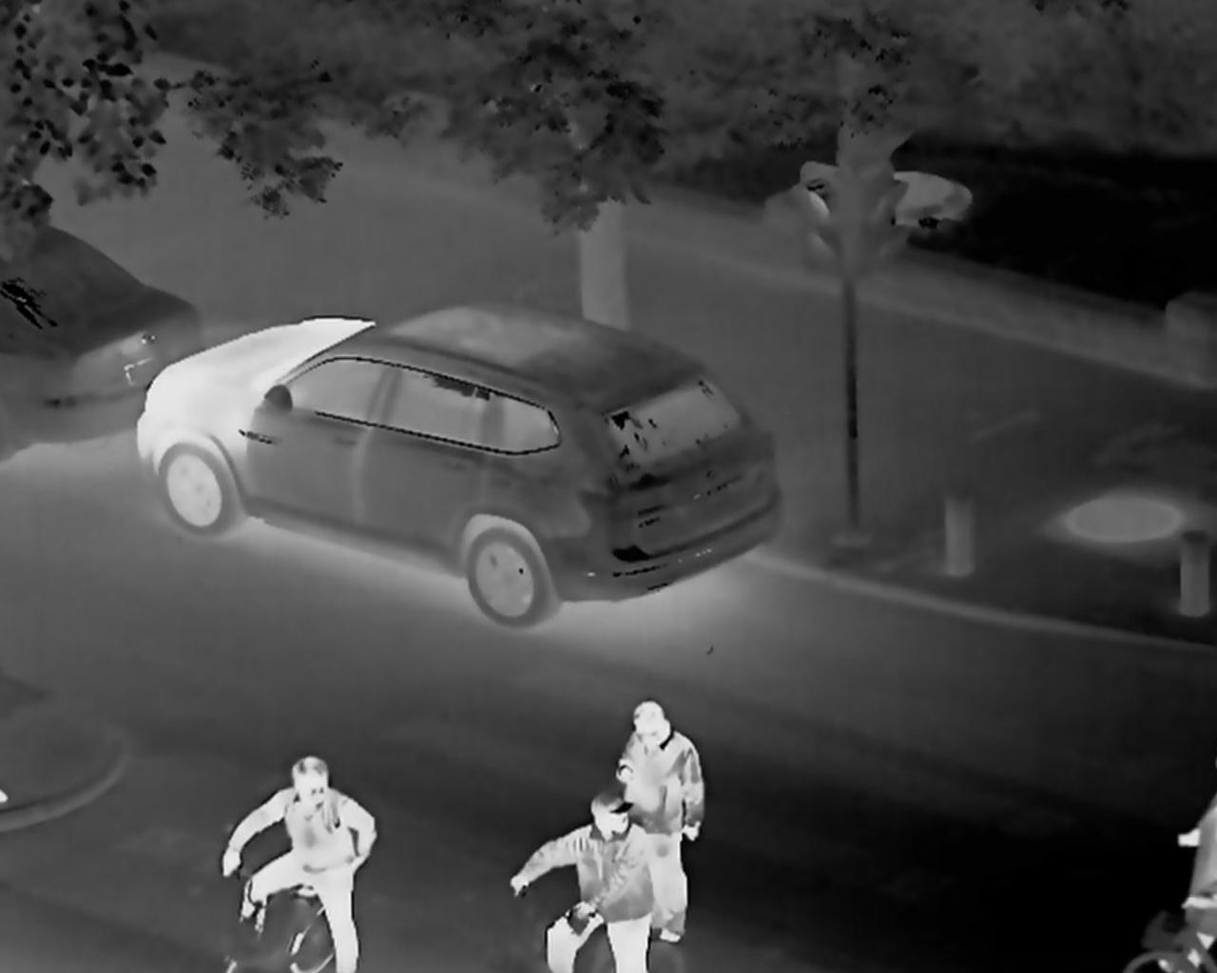person: (218, 750, 372, 973), (499, 790, 654, 973), (602, 692, 704, 950)
